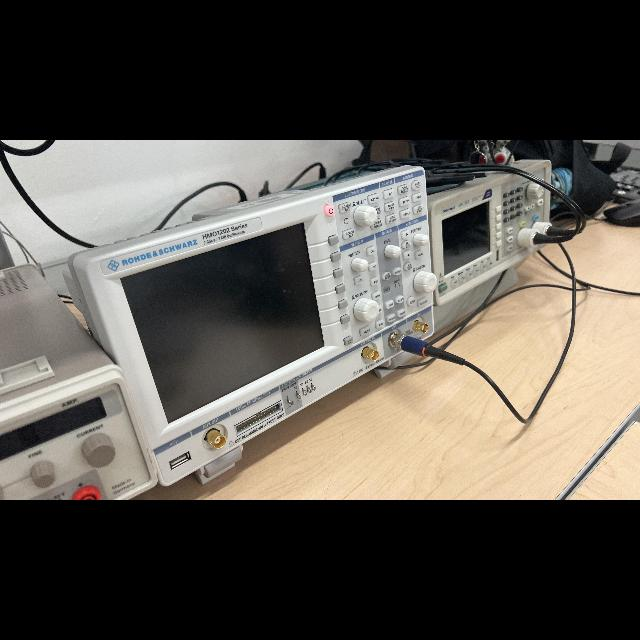Digital-Oscilloscope: (62, 166, 435, 487)
